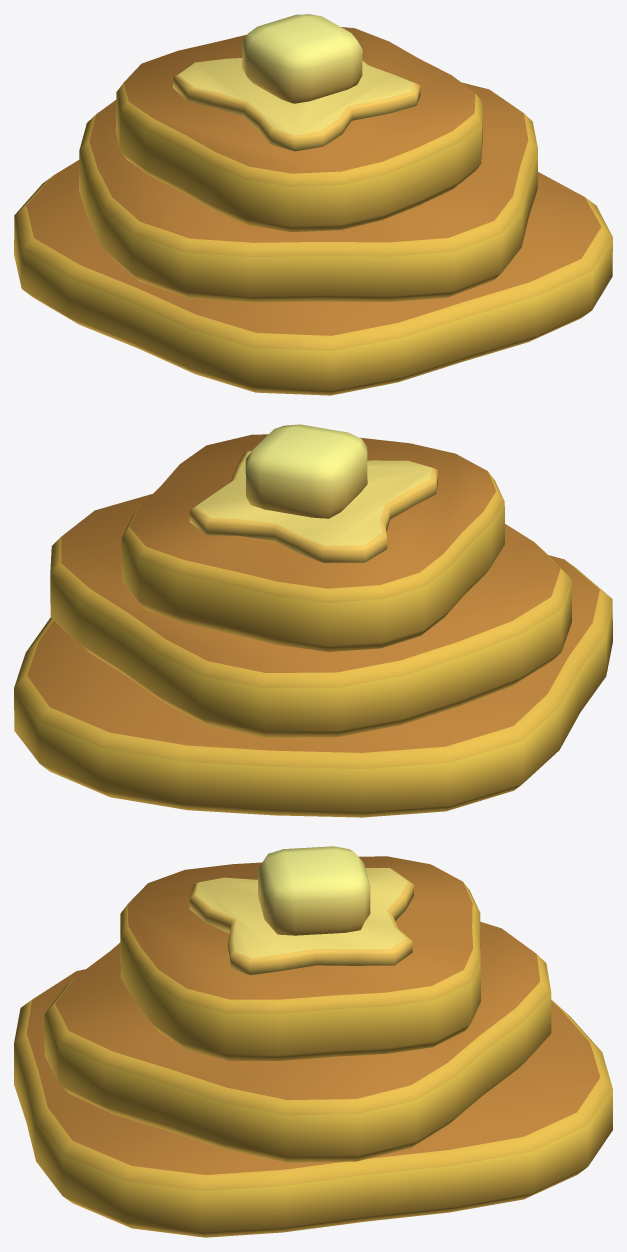
The model's file is lpb_food_pancake.fbx.
The picture shows the model from 3 angles, top to bottom: view 1: azimuth 30°, elevation 25°; view 2: azimuth 150°, elevation 25°; view 3: azimuth 270°, elevation 25°; orthographic projection. The views are drawn at different scales.
Visible parts, largest first — view 1: pancake; view 2: pancake; view 3: pancake.
Part boxes in pixels (x1,y1,x2,y2): pancake: (14,14,612,395); pancake: (14,424,612,817); pancake: (14,846,612,1237).
Size of the model in its own units: 47.08 by 22.8 by 48.12.
